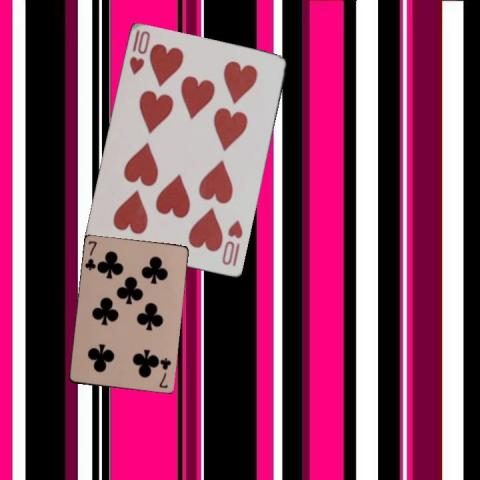10h: (218, 217, 244, 268), (127, 26, 152, 76)
7c: (156, 356, 173, 390), (82, 238, 99, 272)
